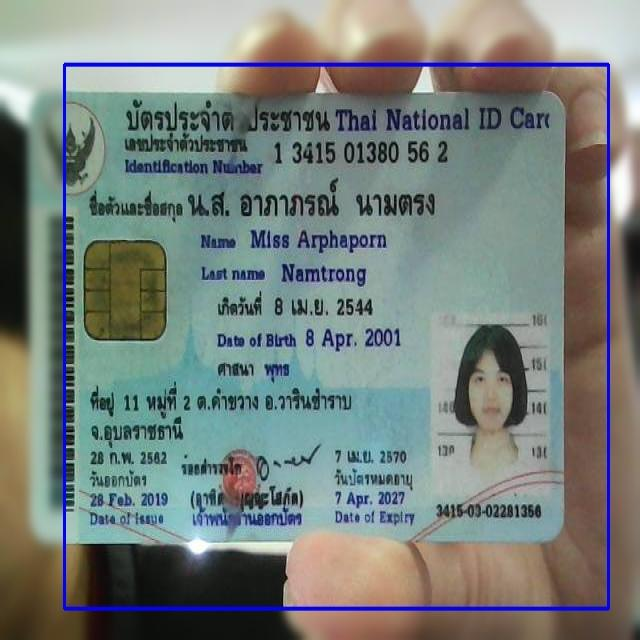Address_th: (83, 378, 357, 449)
Date_of_Birth: (302, 319, 406, 357)
Date_of_Expiry: (330, 486, 412, 509)
Date_of_Issue: (88, 489, 174, 512)
First_Name: (248, 225, 390, 257)
ID_Number: (270, 132, 456, 170)
Image: (426, 312, 552, 501)
Last_Name: (280, 259, 371, 292)
Thai_Name: (186, 175, 446, 226)
